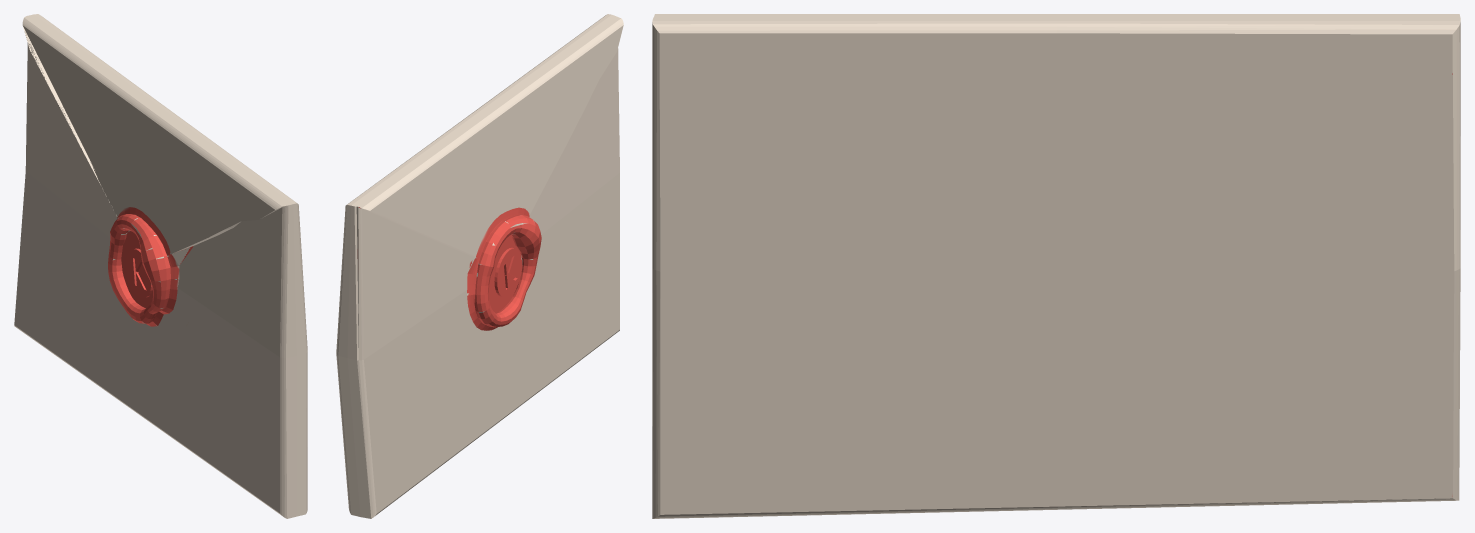
File: envelope_v02.fbx
The picture shows the model from 3 angles, left to right: view 1: azimuth 30°, elevation 25°; view 2: azimuth 150°, elevation 25°; view 3: azimuth 270°, elevation 25°; orthographic projection. The views are drawn at different scales.
Parts seen in each view (by area): view 1: Letter, Cover; view 2: Letter, Cover; view 3: Letter, Cover.
Part boxes in pixels (x1,y1,x2,y2): Letter: (14,14,307,518); Cover: (22,14,292,326); Letter: (336,14,619,518); Cover: (351,15,623,330); Letter: (652,21,1460,518); Cover: (652,14,1460,20).
Size of the model in its own units: 37.04 by 200 by 300.
